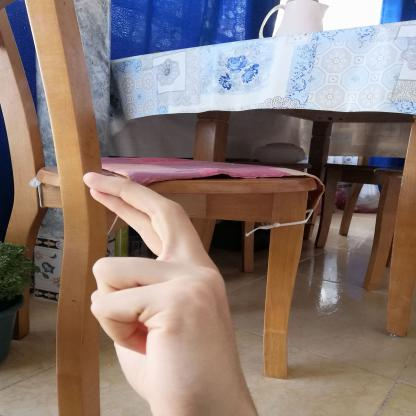ZAY: (66, 162, 267, 413)
